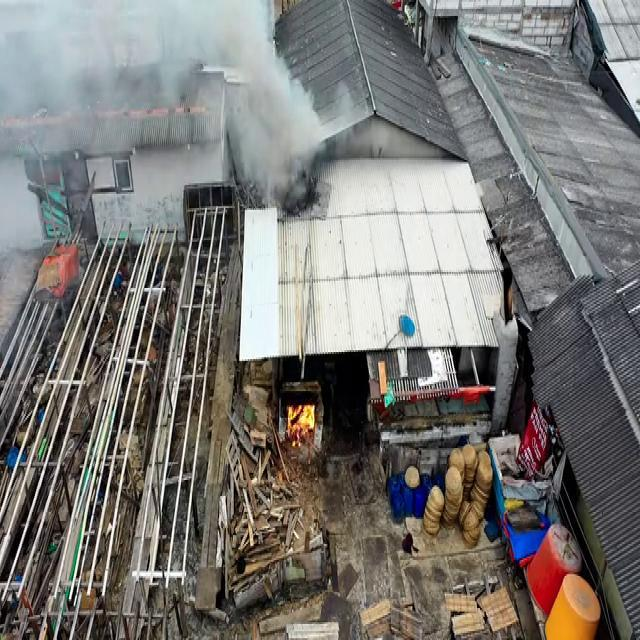smoke: (108, 2, 214, 132), (170, 0, 276, 85), (2, 0, 72, 124), (230, 63, 290, 177), (55, 0, 113, 107), (240, 138, 306, 204), (284, 82, 324, 161)
